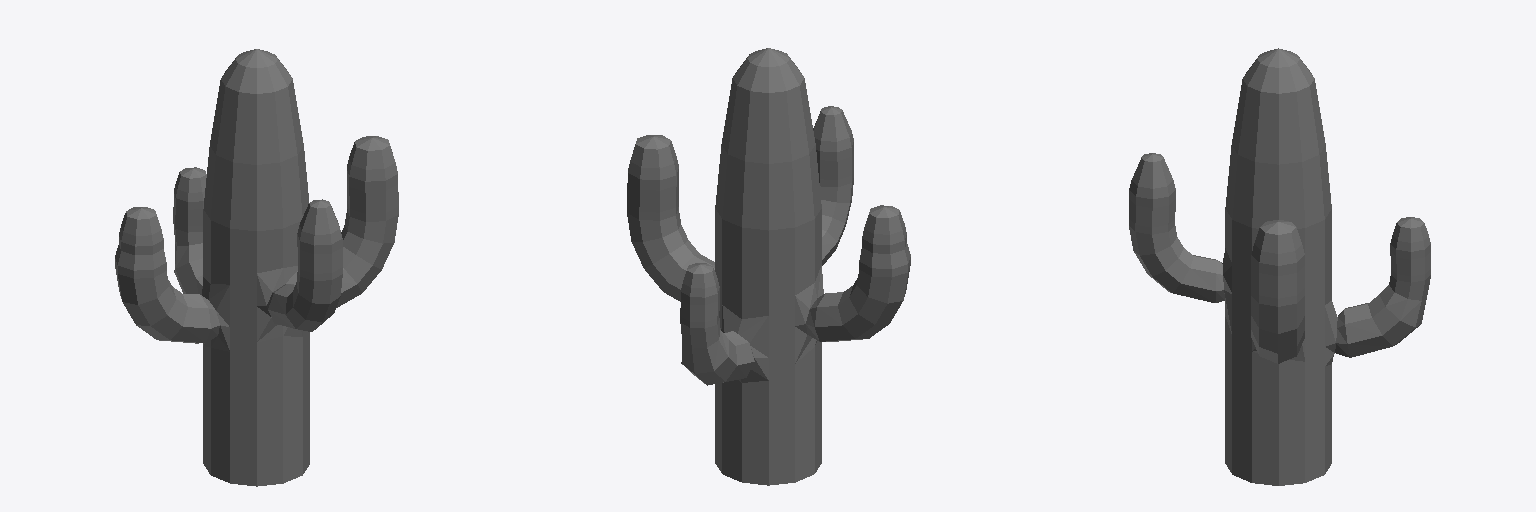
File: ghostWestern_environment_saguaroCactus.obj
3 views of the same model, side by side, from view 1: azimuth 30°, elevation 25°; view 2: azimuth 150°, elevation 25°; view 3: azimuth 270°, elevation 25° (orthographic).
Parts seen in each view (by area): view 1: polySurface1; view 2: polySurface1; view 3: polySurface1.
Part boxes in pixels (bbox=[...]): polySurface1: bbox=[115, 49, 398, 486]; polySurface1: bbox=[627, 48, 910, 485]; polySurface1: bbox=[1129, 48, 1430, 485].
Bounding box in the file's own units: 7.96 × 11.33 × 7.49.